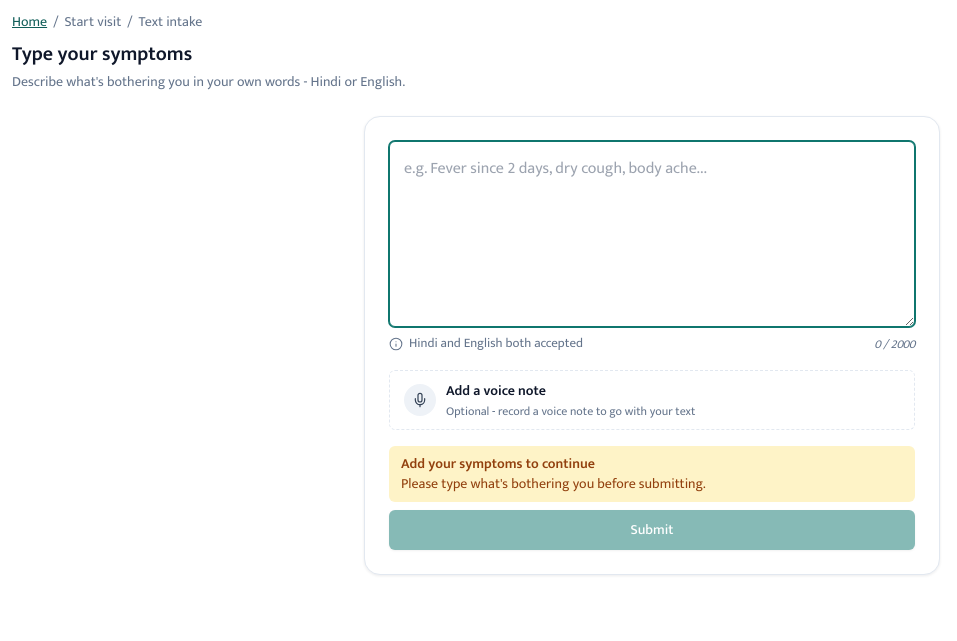
Test: TextIntakePage failure paths (no silent loss, non-blocking note) › preserves text and note and returns to the form when every upload attempt fails
Step 1. Click the button with test id "note-attach" → (652, 400), box [389,370,915,430]
Wait 4000 ms
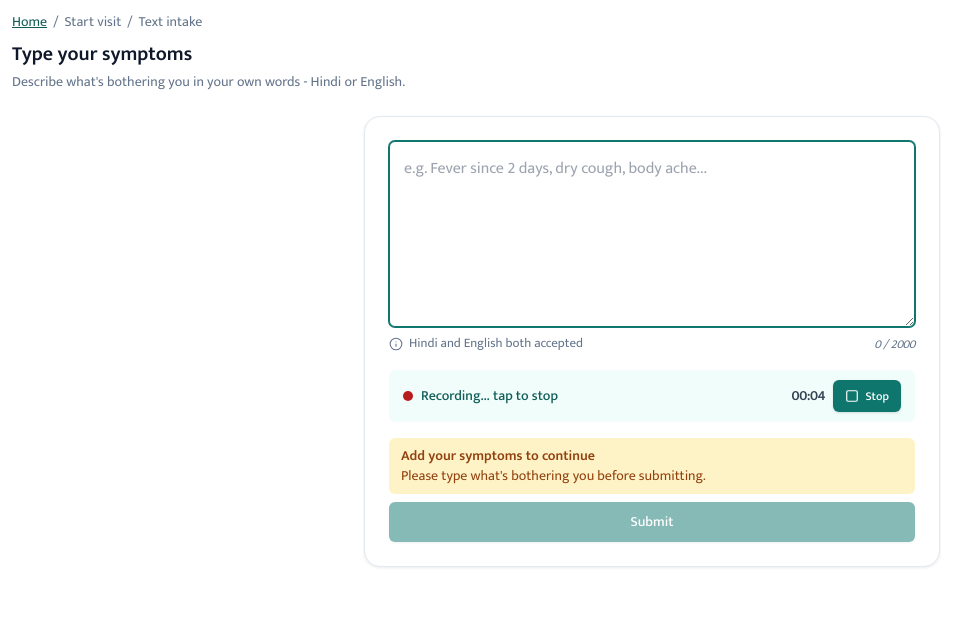
Step 2. Click the button with test id "note-stop" → (867, 396), box [833,380,901,412]
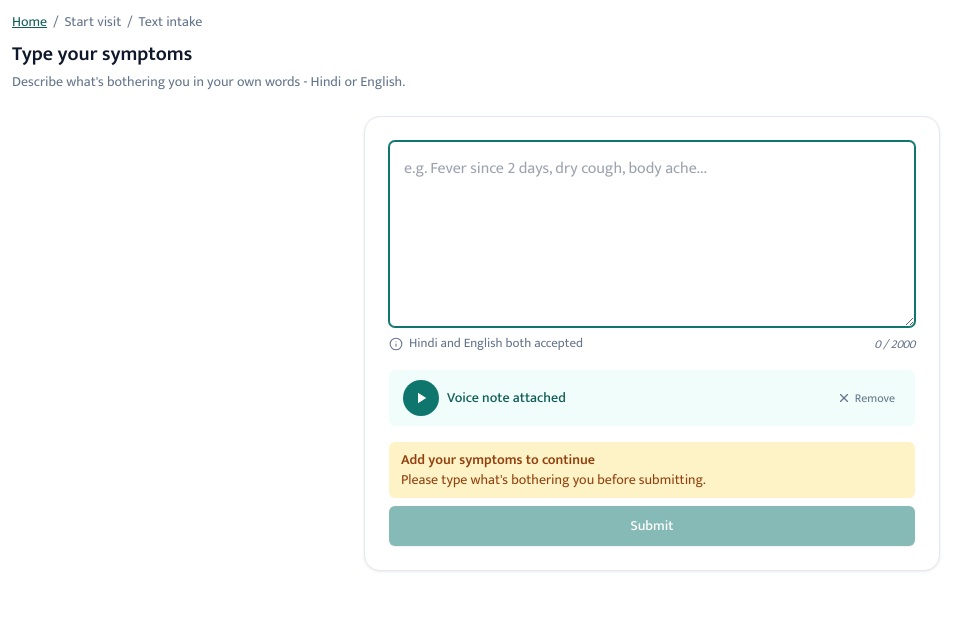
Step 3. Type "fever" into the text box with test id "textarea" → (652, 234), box [389,141,915,327]
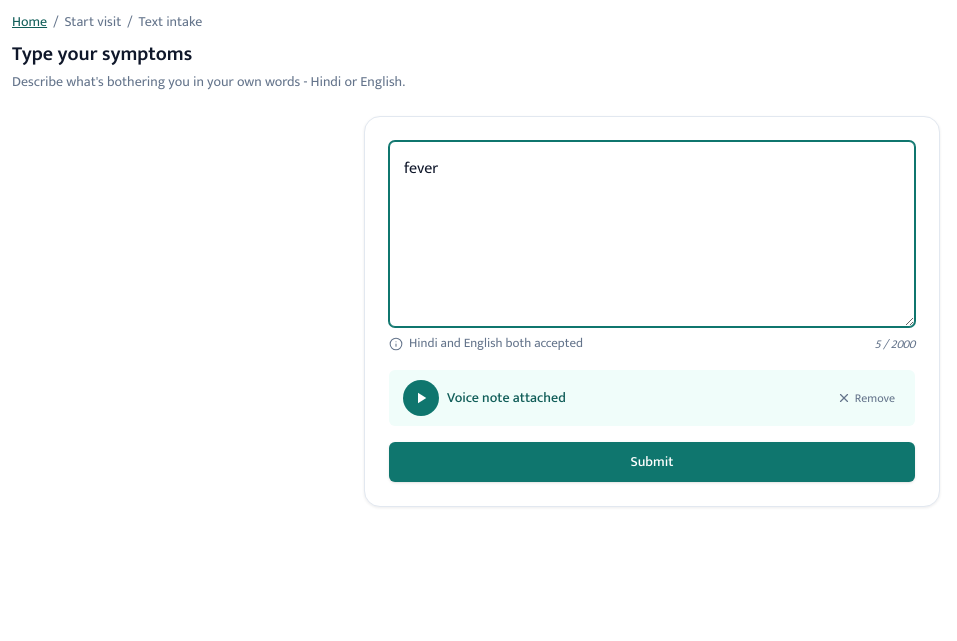
Step 4. Click the button with test id "btn-submit" → (652, 462), box [389,442,915,482]
Wait 1600 ms
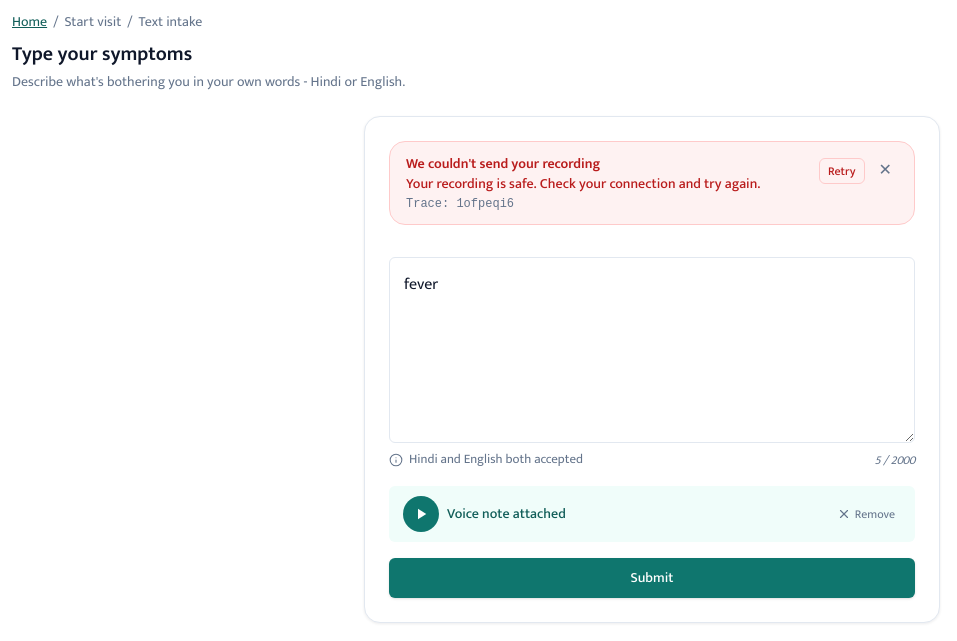
Expected: the message with test id "error-banner" shows "We couldn't send your recording", [406,152,600,175]
Step 5. Click the button with test id "error-banner-retry" → (842, 171), box [819,158,865,184]
Wait 2000 ms
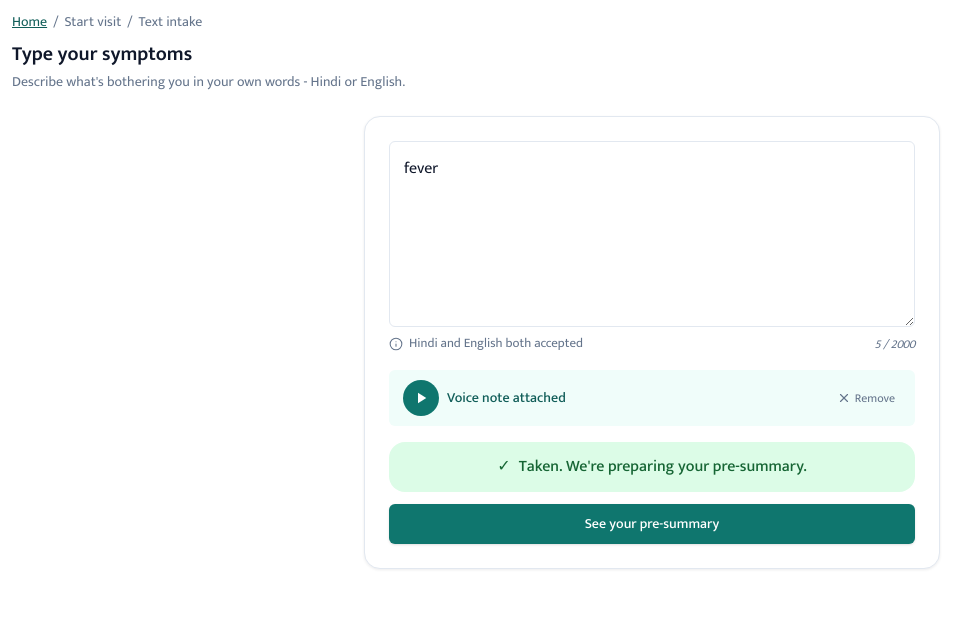
Expected: the element with test id "done-zone" is shown, [389,442,915,544]
